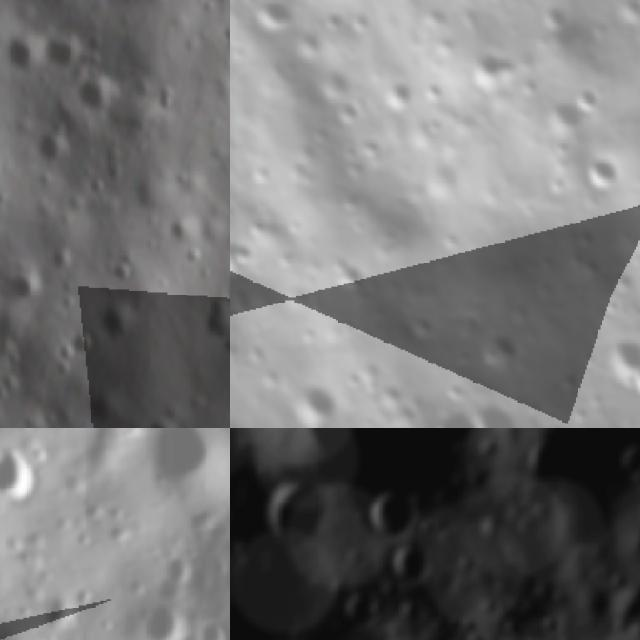crater: (252, 472, 330, 555), (582, 316, 640, 416), (451, 34, 533, 104), (144, 428, 223, 496), (570, 145, 634, 207), (283, 368, 349, 428), (243, 0, 314, 52), (363, 484, 420, 546), (343, 347, 400, 403), (368, 67, 425, 122), (476, 327, 530, 379), (0, 444, 44, 507), (469, 390, 532, 428), (138, 594, 189, 640), (422, 395, 493, 428), (388, 536, 432, 588), (529, 0, 582, 43), (567, 72, 613, 121), (336, 582, 381, 632), (398, 303, 443, 349), (230, 224, 266, 278), (568, 246, 610, 289), (476, 506, 513, 550), (512, 505, 550, 545), (606, 259, 640, 299), (61, 331, 97, 362), (614, 439, 640, 480), (609, 0, 640, 32), (195, 615, 230, 640), (212, 555, 230, 603)
